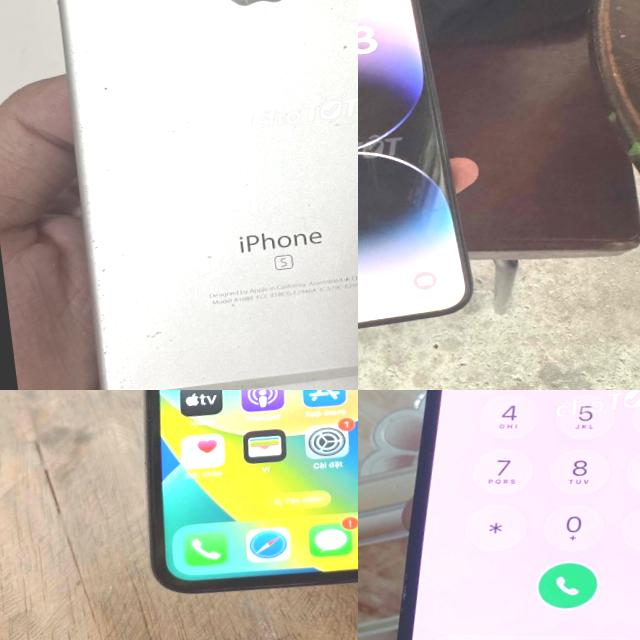scratch: (191, 0, 329, 29)
